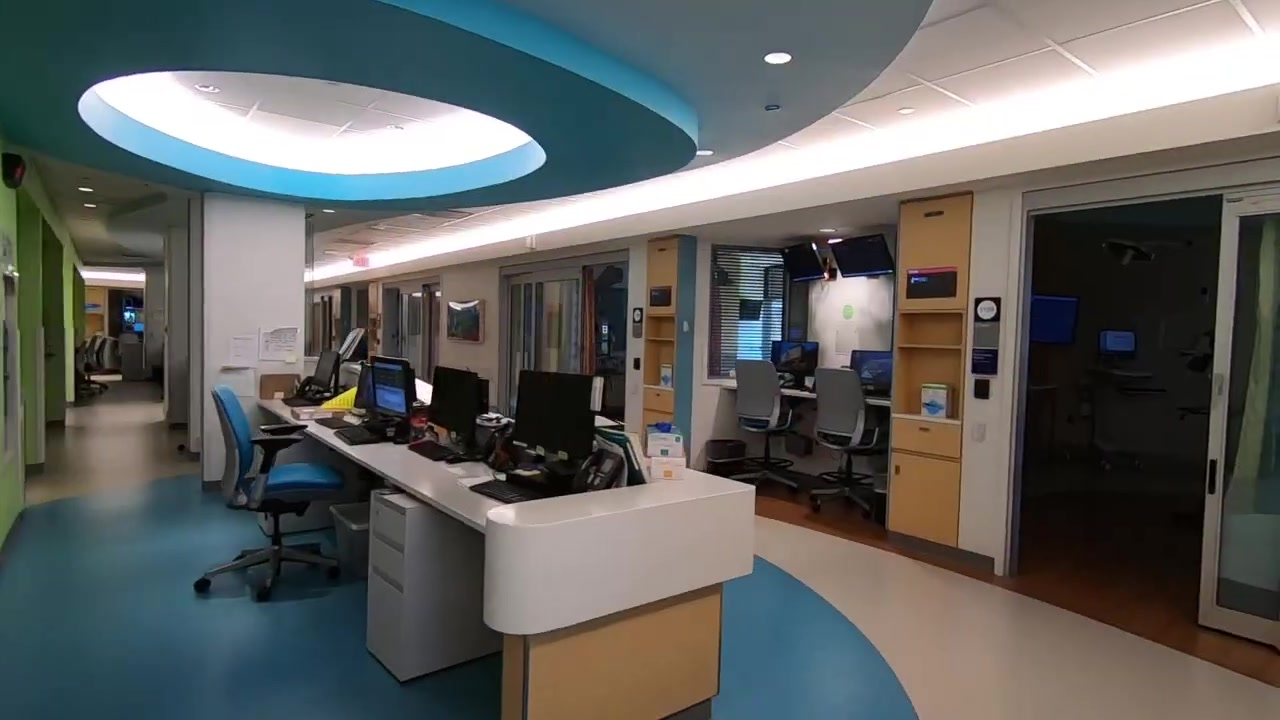TV: (828, 232, 898, 279), (778, 242, 827, 285)
bedside_monitor: (1099, 330, 1136, 355)
cabinet: (369, 488, 489, 685), (890, 193, 969, 312), (645, 243, 685, 317)
chair: (198, 386, 343, 597), (807, 366, 879, 519), (734, 360, 802, 493), (75, 341, 91, 403), (83, 336, 99, 397), (96, 335, 112, 391)
computer: (511, 373, 597, 456), (428, 366, 483, 433), (367, 358, 415, 415), (1029, 294, 1080, 347), (770, 340, 820, 378), (848, 351, 893, 390), (310, 349, 340, 387)
counter: (253, 378, 757, 719)
countertop: (250, 400, 762, 524), (720, 381, 893, 408)
curtain: (581, 280, 596, 375)
dispenser: (644, 421, 685, 457), (921, 383, 949, 421)
drawer: (886, 415, 959, 548)
handle: (915, 423, 933, 434), (892, 461, 902, 479)
keyboard: (468, 478, 552, 503), (408, 438, 451, 462), (334, 424, 379, 446), (279, 392, 317, 405)
mouse: (442, 451, 464, 466)
surgical_light: (1104, 239, 1156, 268)
telephone: (571, 448, 624, 490), (483, 421, 517, 470), (294, 378, 312, 396)
waste_bin: (326, 497, 374, 583), (705, 438, 746, 479)
